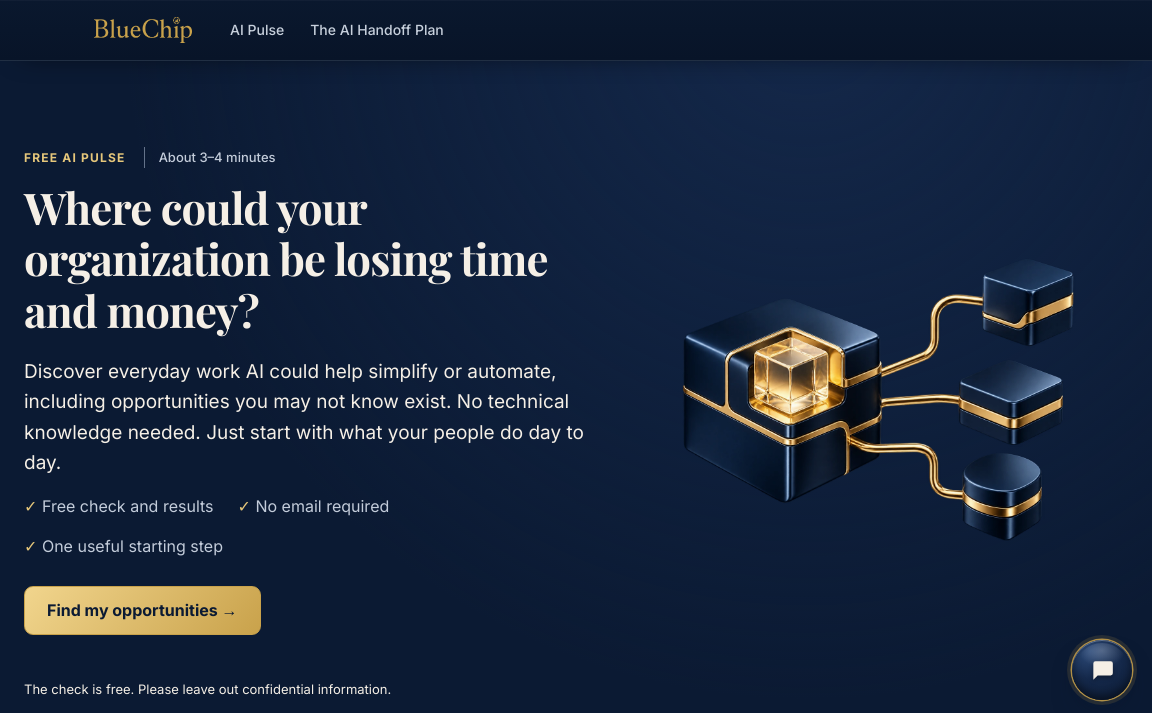
it: groups familiar work and previews an idea without recording an answer
This screenshot has width=1152, height=713.
Step 1. Click the button "Find my opportunities →" → (142, 610), box left=24, top=586, right=260, bottom=635
(page scrolled)
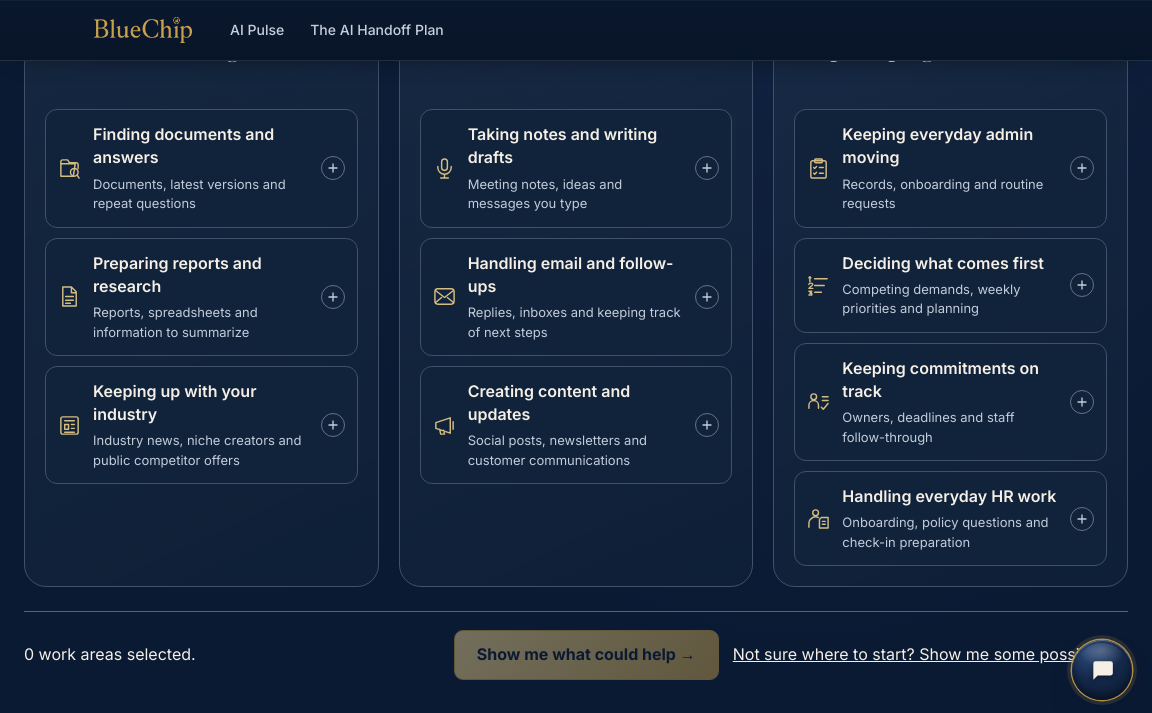
Step 2. Click the button "Keeping commitments" → (941, 368), box left=794, top=343, right=1107, bottom=461
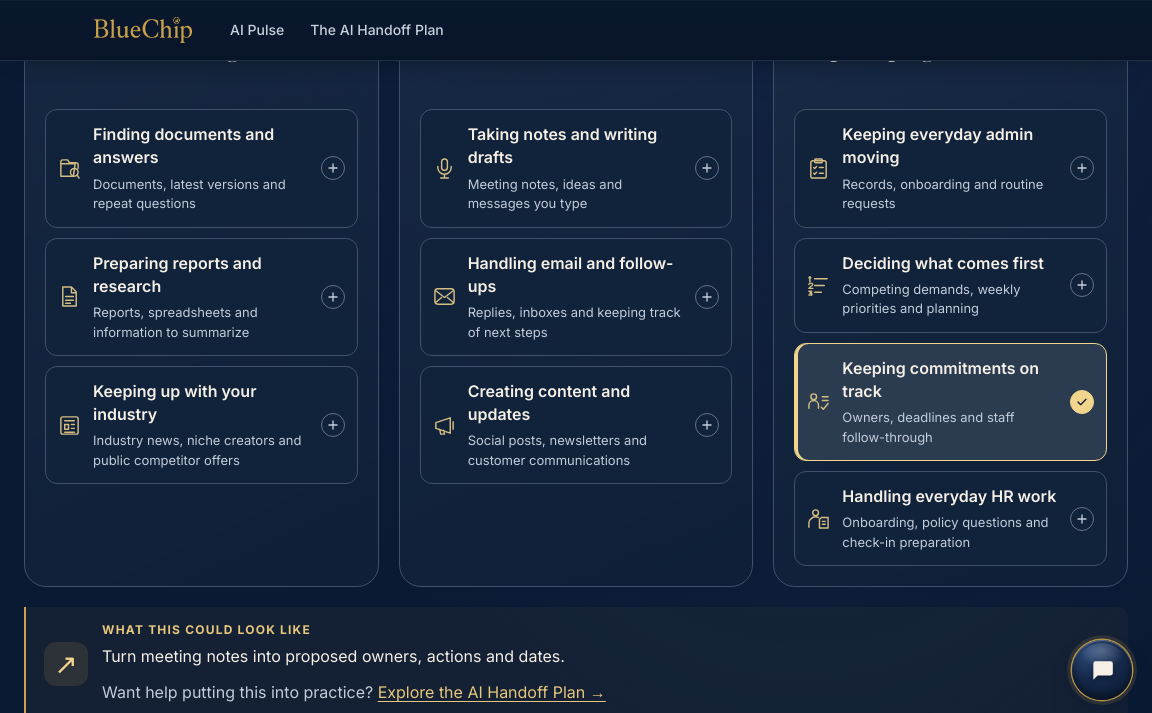
Expected: the message named "A possibility to explore" shows "Turn meeting notes into proposed owners, actions and dates.", left=102, top=646, right=565, bottom=666
